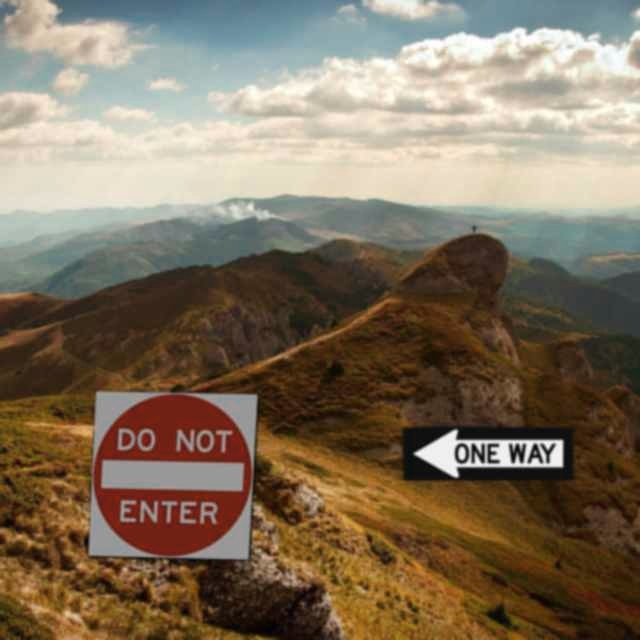DO_NOT_ENTER: (87, 390, 259, 561)
ONE_WAY_ left: (402, 426, 574, 481)
